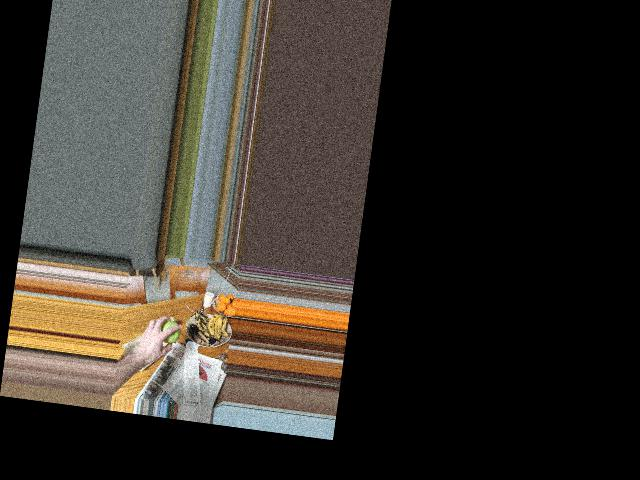apple: (154, 319, 181, 347)
